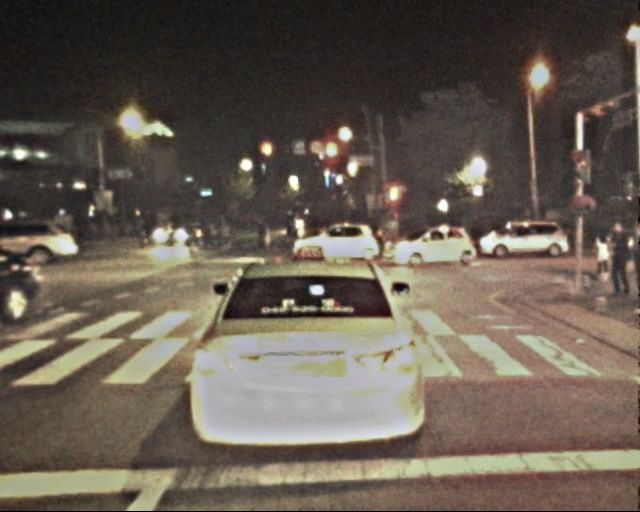person: (602, 221, 632, 294), (179, 215, 232, 250), (587, 227, 612, 289), (252, 214, 270, 257), (282, 217, 299, 258), (139, 216, 155, 254)
